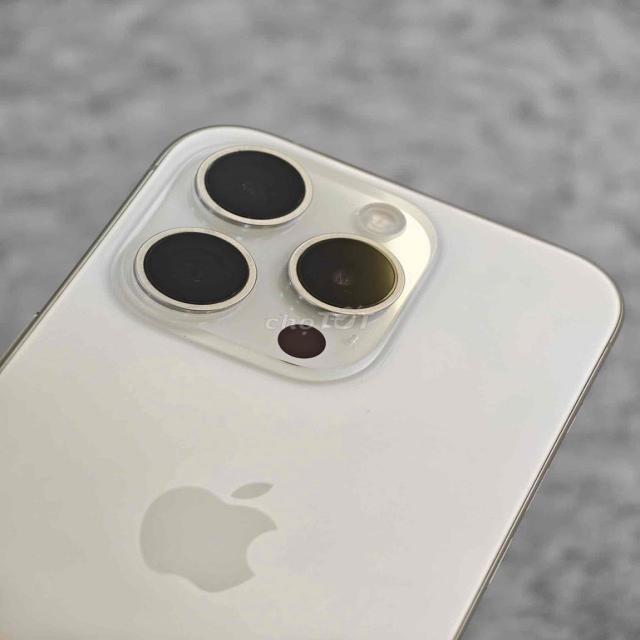gen_15: (0, 116, 632, 640)
